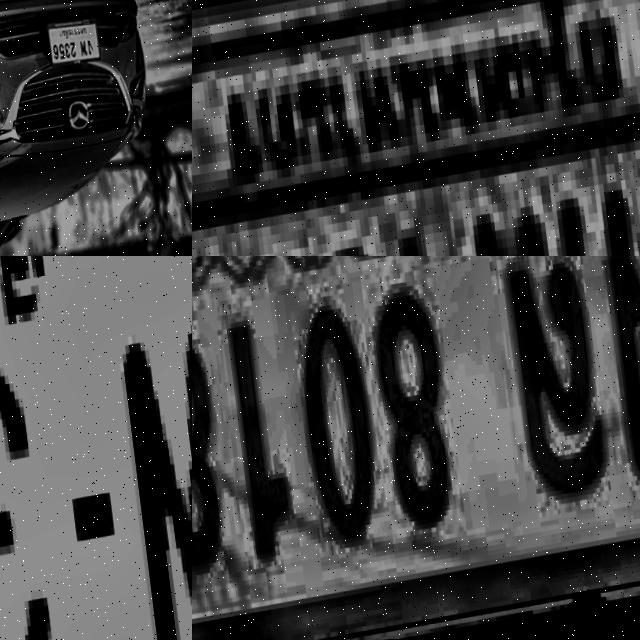license-plate: (192, 256, 640, 640), (192, 0, 640, 256), (0, 256, 192, 640), (41, 17, 100, 78)
